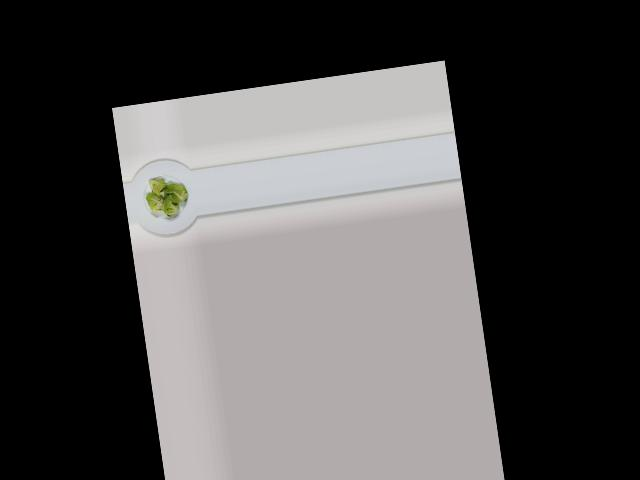lettuce: (144, 172, 194, 221)
